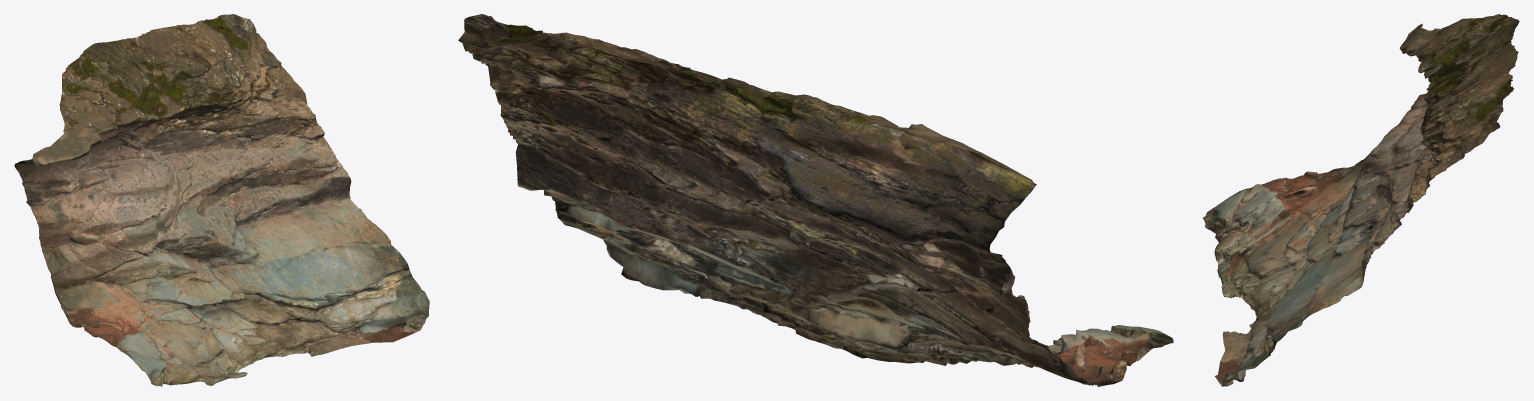
File: field-rock-face-01.glb
3 renders of one model, left to right at view 1: azimuth 30°, elevation 25°; view 2: azimuth 150°, elevation 25°; view 3: azimuth 270°, elevation 25°, orthographic. The views are drawn at different scales.
Bounding box in the file's own units: 4.95 × 3.56 × 3.83.
1 material, 1 textured.
